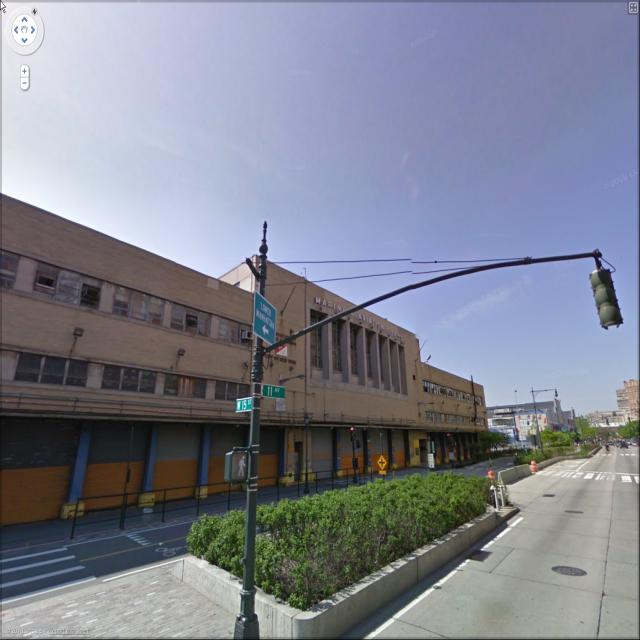b_1: (3, 175, 493, 482), (466, 382, 581, 457)
